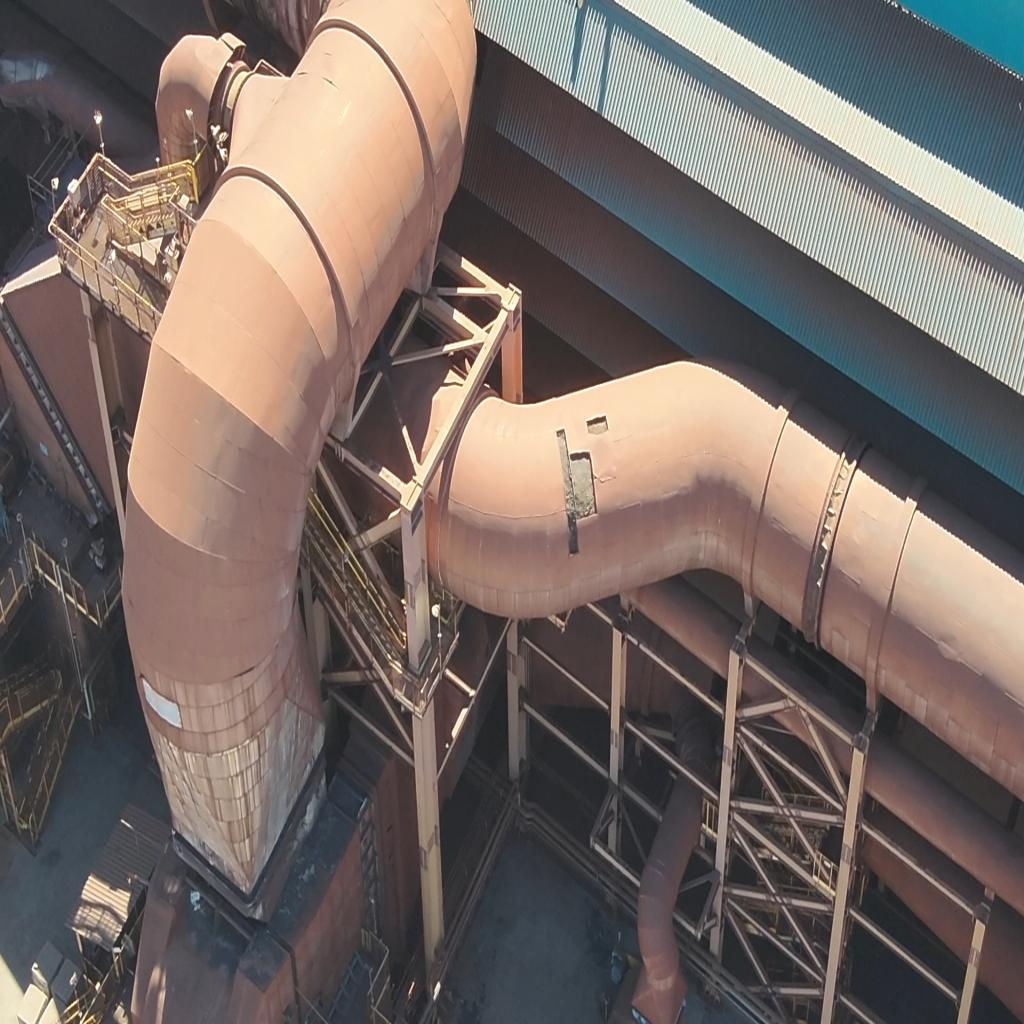Failures: (556, 429, 598, 554), (587, 420, 611, 440)
